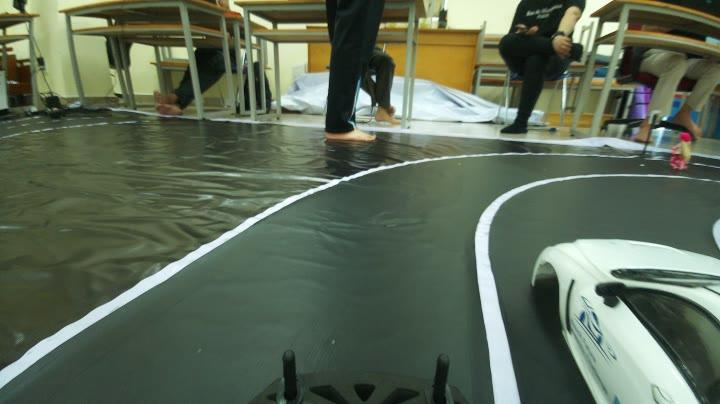car: (487, 198, 720, 404)
